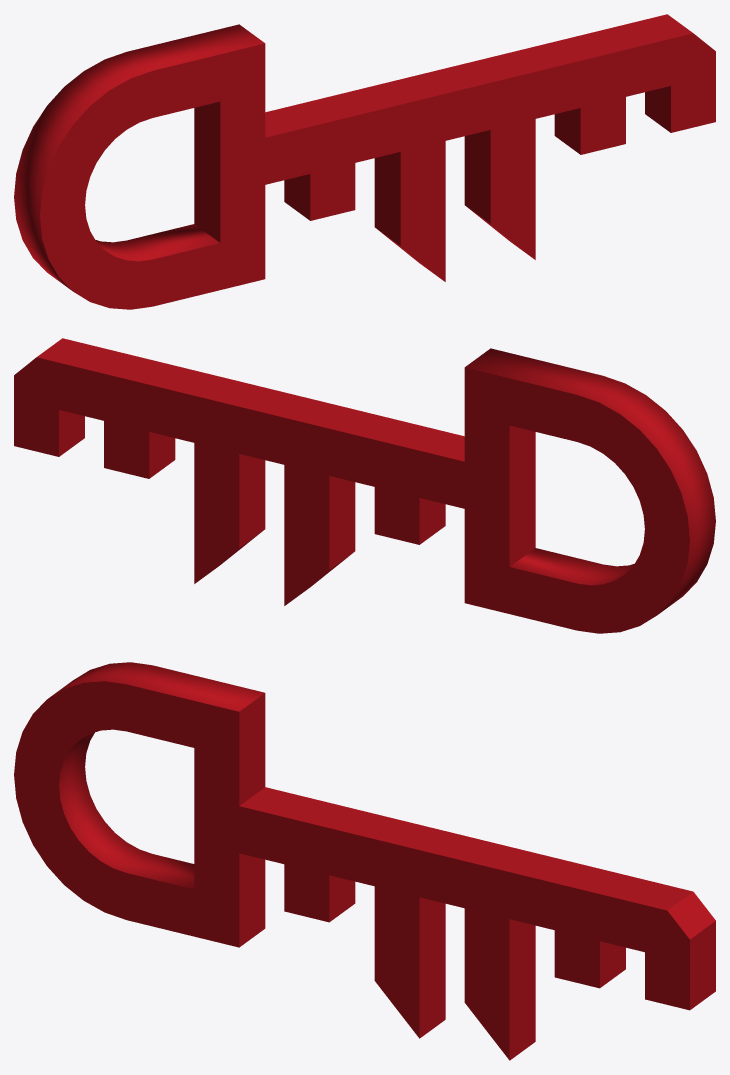
Rendered from Items.fbx_Key_11.fbx.
The picture shows the model from 3 angles, top to bottom: view 1: azimuth 30°, elevation 25°; view 2: azimuth 150°, elevation 25°; view 3: azimuth 330°, elevation 25°; orthographic projection.
Visible parts, largest first — view 1: Key 11; view 2: Key 11; view 3: Key 11.
Part boxes in pixels (x1,y1,x2,y2): Key 11: [14, 14, 715, 309]; Key 11: [14, 338, 715, 633]; Key 11: [14, 662, 715, 1060].
Bounding box in the file's own units: 30 × 12 × 2.
